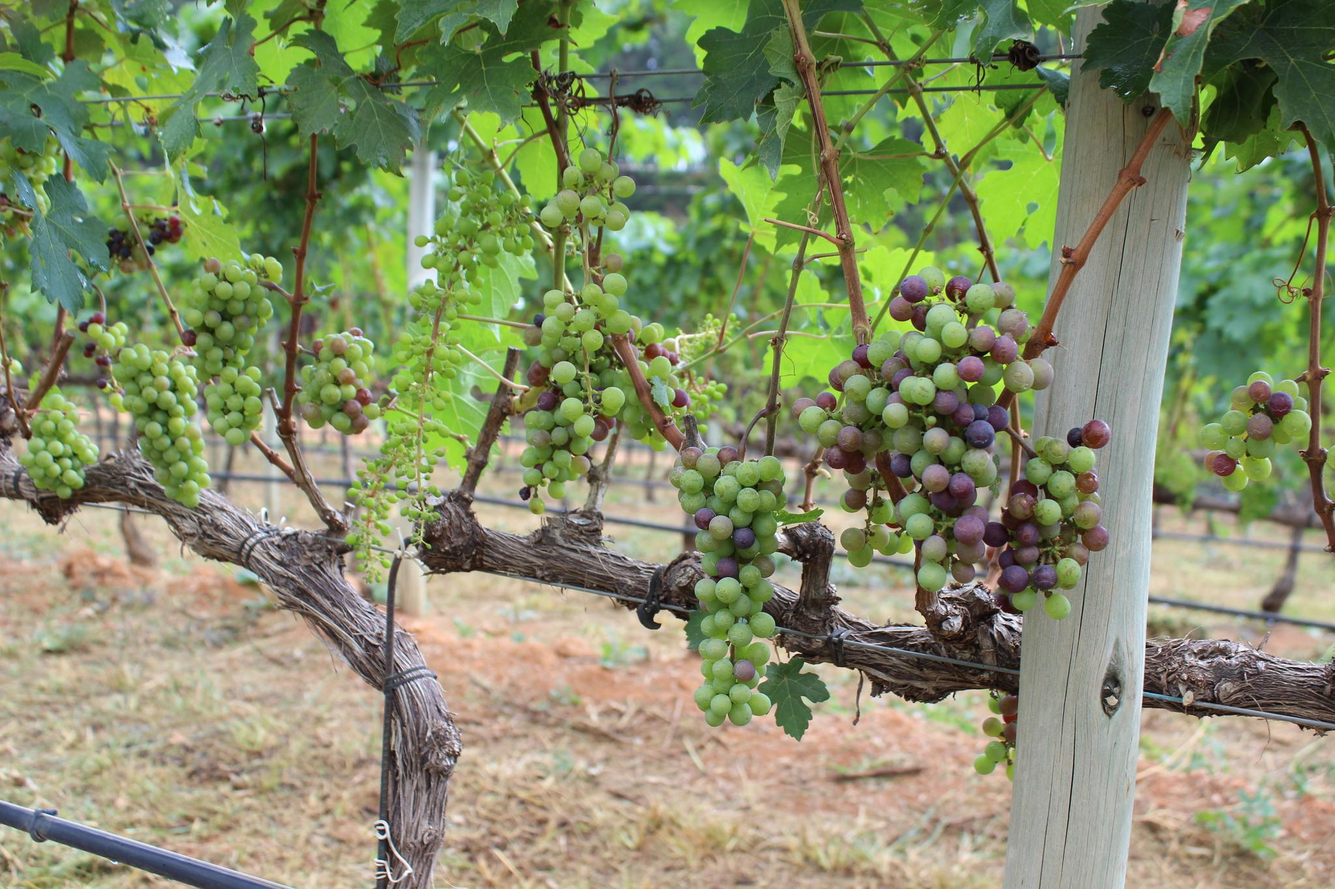Grape Unripe: (673, 445, 776, 732), (517, 272, 614, 520), (114, 342, 216, 512), (188, 257, 271, 445), (417, 158, 538, 284), (398, 262, 451, 529), (582, 318, 677, 447), (16, 387, 101, 509), (533, 147, 632, 234), (343, 442, 394, 582), (78, 315, 141, 367)
